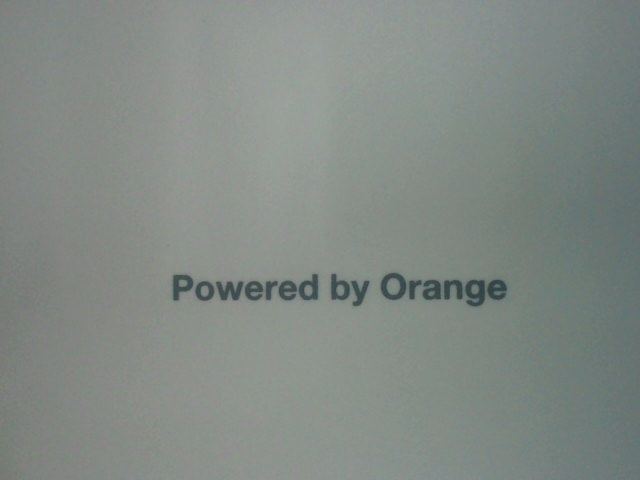AS_PowerByOrange: (164, 250, 514, 324)
